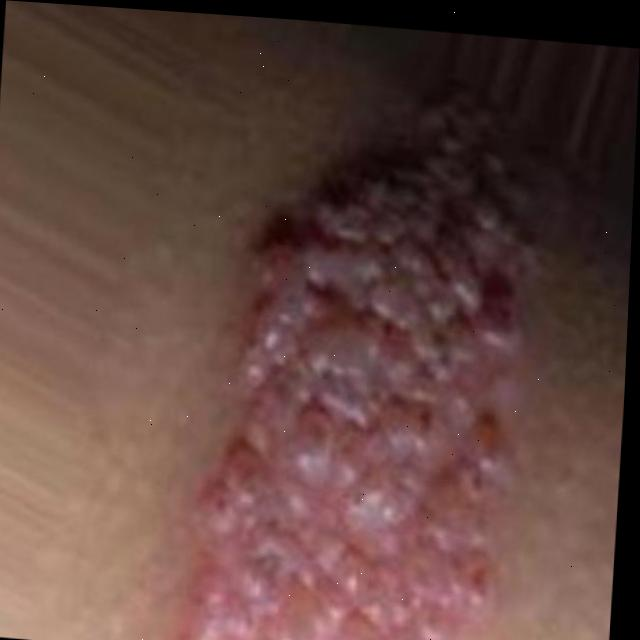Shingles: (177, 106, 543, 640)
